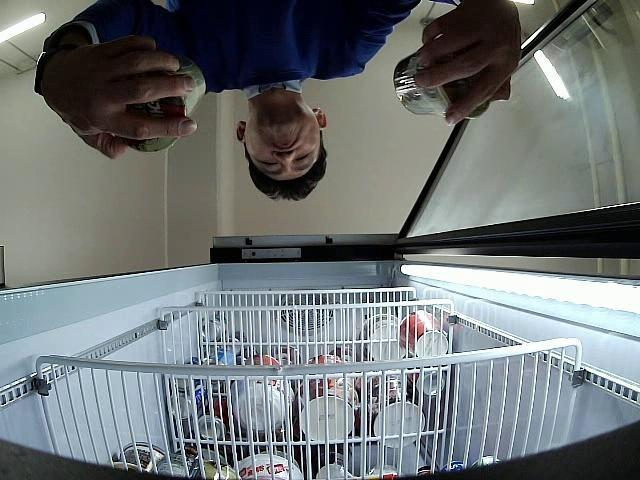04_chapagetti_S: (124, 52, 206, 154), (394, 44, 491, 120)
